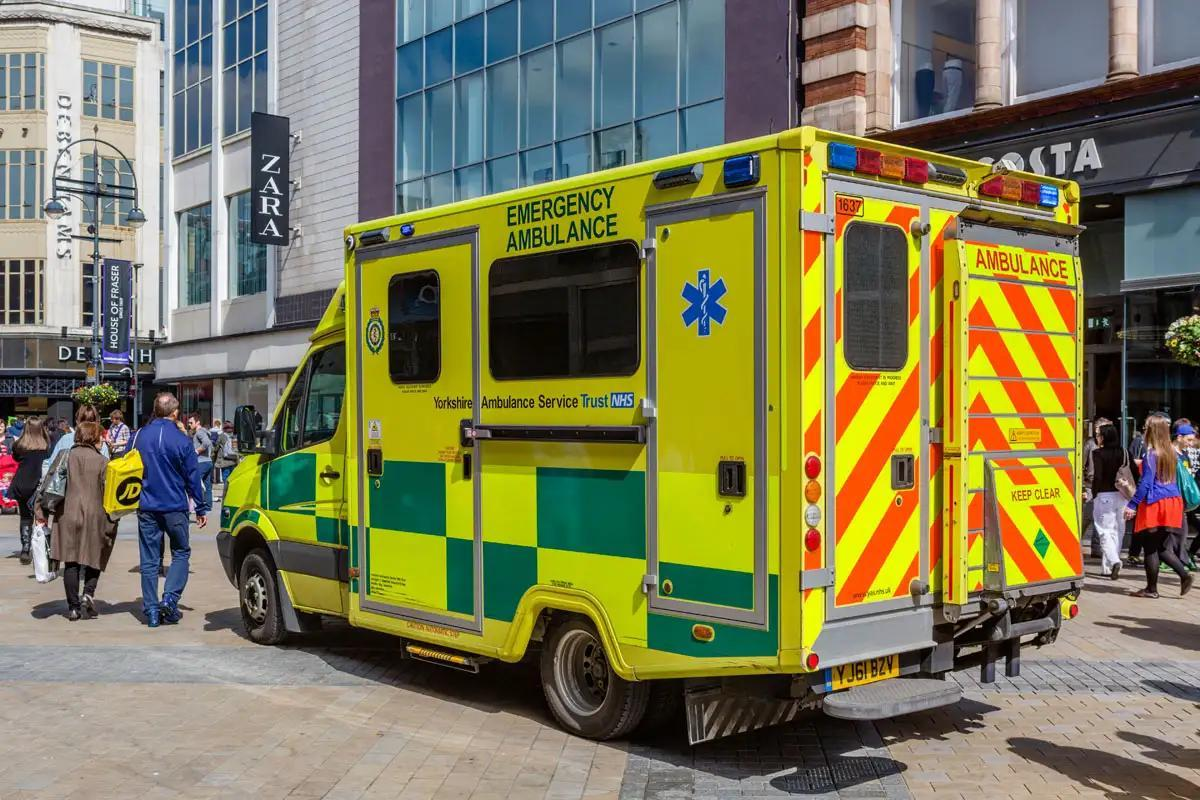Ambulance: (664, 253, 743, 348), (495, 209, 625, 259), (967, 247, 1075, 290)
